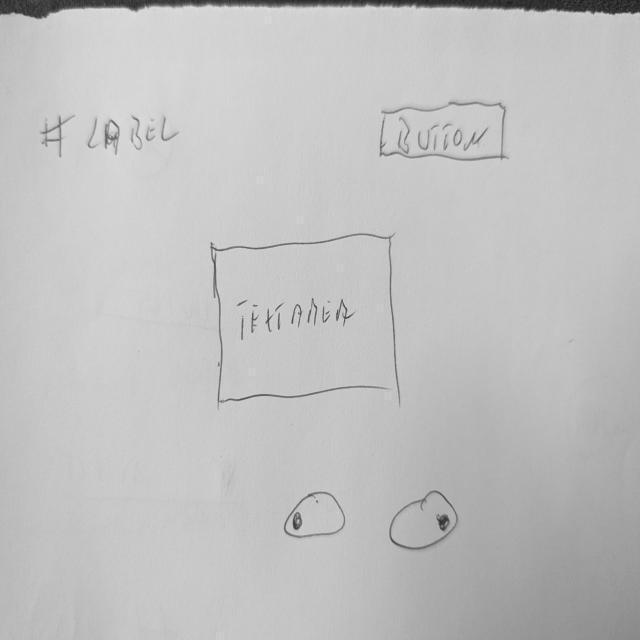button: (376, 102, 509, 165)
label: (40, 108, 183, 160)
toggle: (387, 488, 461, 556), (282, 490, 350, 542)
